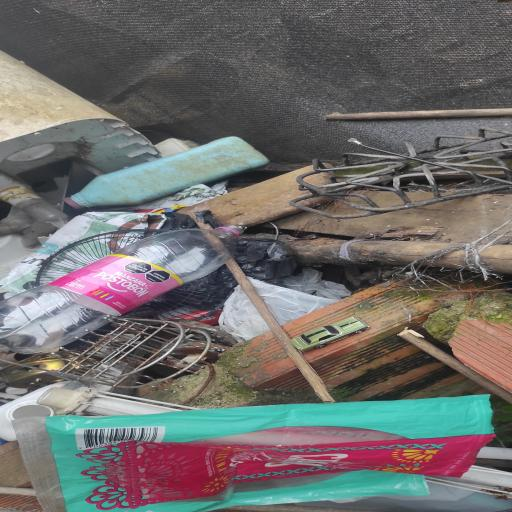Carrito: (292, 317, 369, 352)
